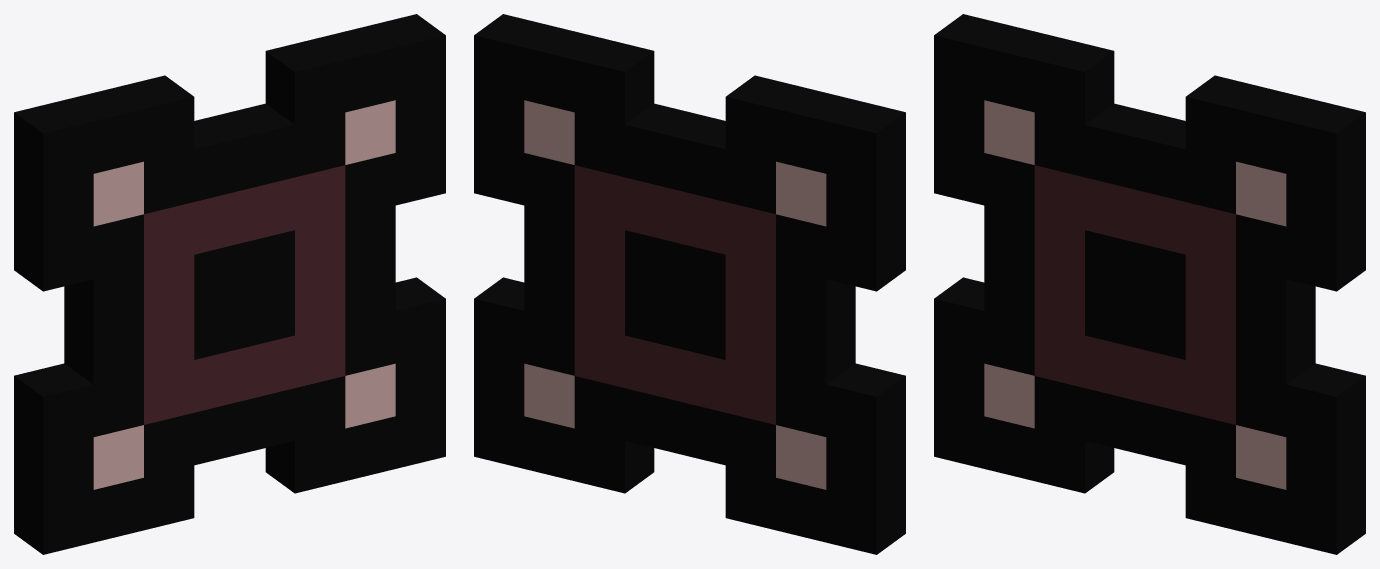
File: Caught Mob Crone Default.glb
3 views of the same model, side by side, from view 1: azimuth 30°, elevation 25°; view 2: azimuth 150°, elevation 25°; view 3: azimuth 330°, elevation 25° (orthographic).
Parts seen in each view (by area): view 1: generated(Clone); view 2: generated(Clone); view 3: generated(Clone).
Part boxes in pixels (bbox=[...]): generated(Clone): bbox=[14, 14, 445, 554]; generated(Clone): bbox=[474, 14, 905, 554]; generated(Clone): bbox=[934, 14, 1365, 554].
Bounding box in the file's own units: 8 × 8 × 1.
Materials: 1 (1 with a texture image).
